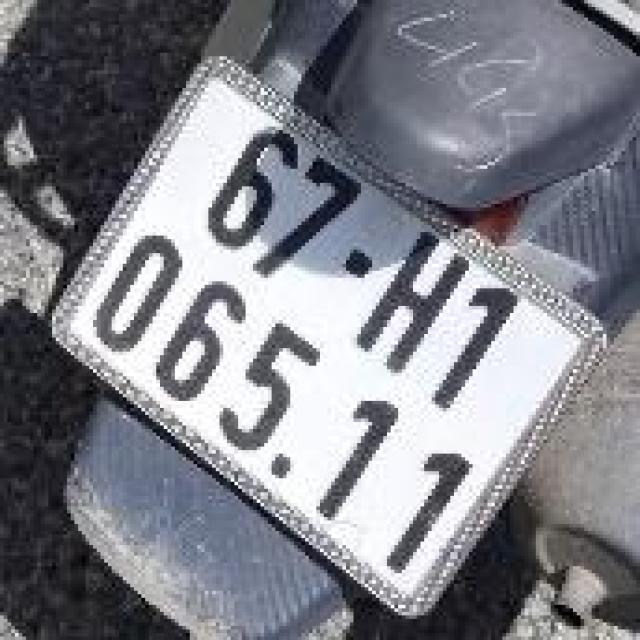0: (79, 220, 199, 369)
1: (367, 425, 491, 591), (415, 265, 540, 427), (294, 382, 415, 535)
5: (199, 308, 333, 468)
6: (190, 111, 318, 265), (146, 267, 261, 417)
7: (237, 146, 374, 288)
H: (341, 211, 490, 389)
